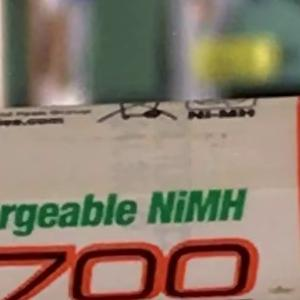NIMH: (137, 179, 256, 233)
